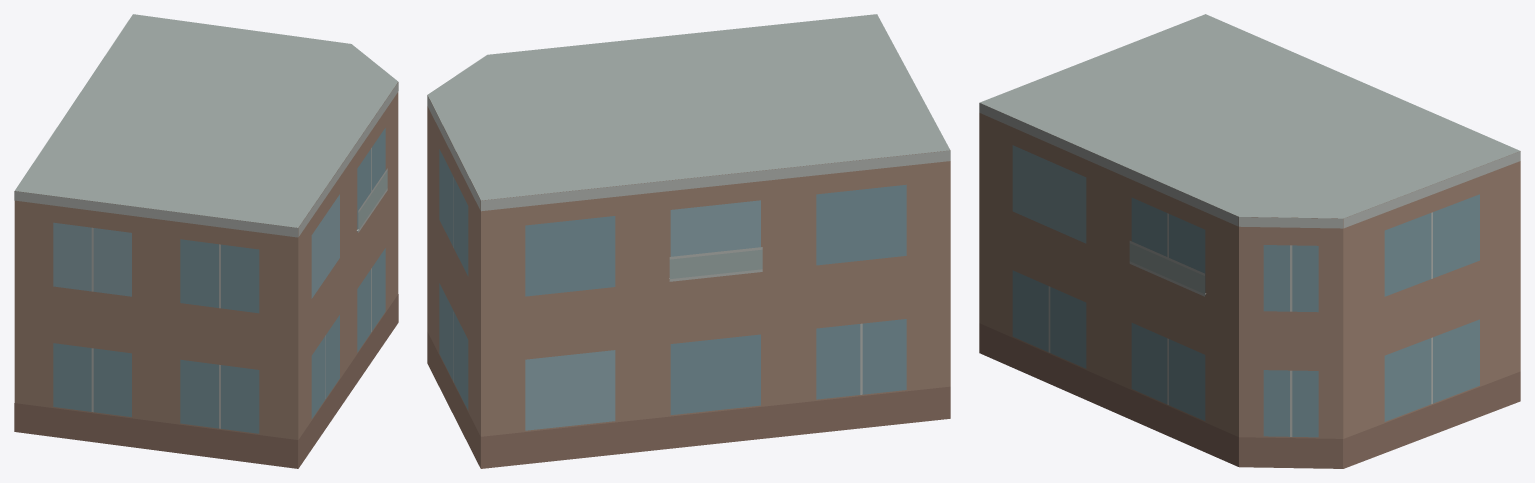
File: survey-upis-32594850.glb
3 views of the same model, side by side, from view 1: azimuth 30°, elevation 25°; view 2: azimuth 150°, elevation 25°; view 3: azimuth 270°, elevation 25° (orthographic). The views are drawn at different scales.
Parts seen in each view (by area): view 1: survey-upis-32594850.tmp; view 2: survey-upis-32594850.tmp; view 3: survey-upis-32594850.tmp.
Part boxes in pixels (left/top/right/bottom): survey-upis-32594850.tmp: left=14, top=14, right=398, bottom=468; survey-upis-32594850.tmp: left=427, top=14, right=950, bottom=468; survey-upis-32594850.tmp: left=979, top=14, right=1520, bottom=468.
Size of the model in its own units: 10.7 by 6.1 by 11.96.
